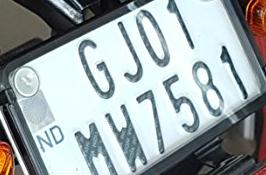0: (133, 8, 173, 68)
1: (217, 42, 251, 101)
5: (159, 71, 201, 132)
7: (134, 88, 165, 153)
8: (190, 60, 226, 117)
G: (75, 37, 116, 100)
J: (112, 20, 144, 83)
M: (71, 122, 118, 174)
W: (102, 103, 149, 172)
